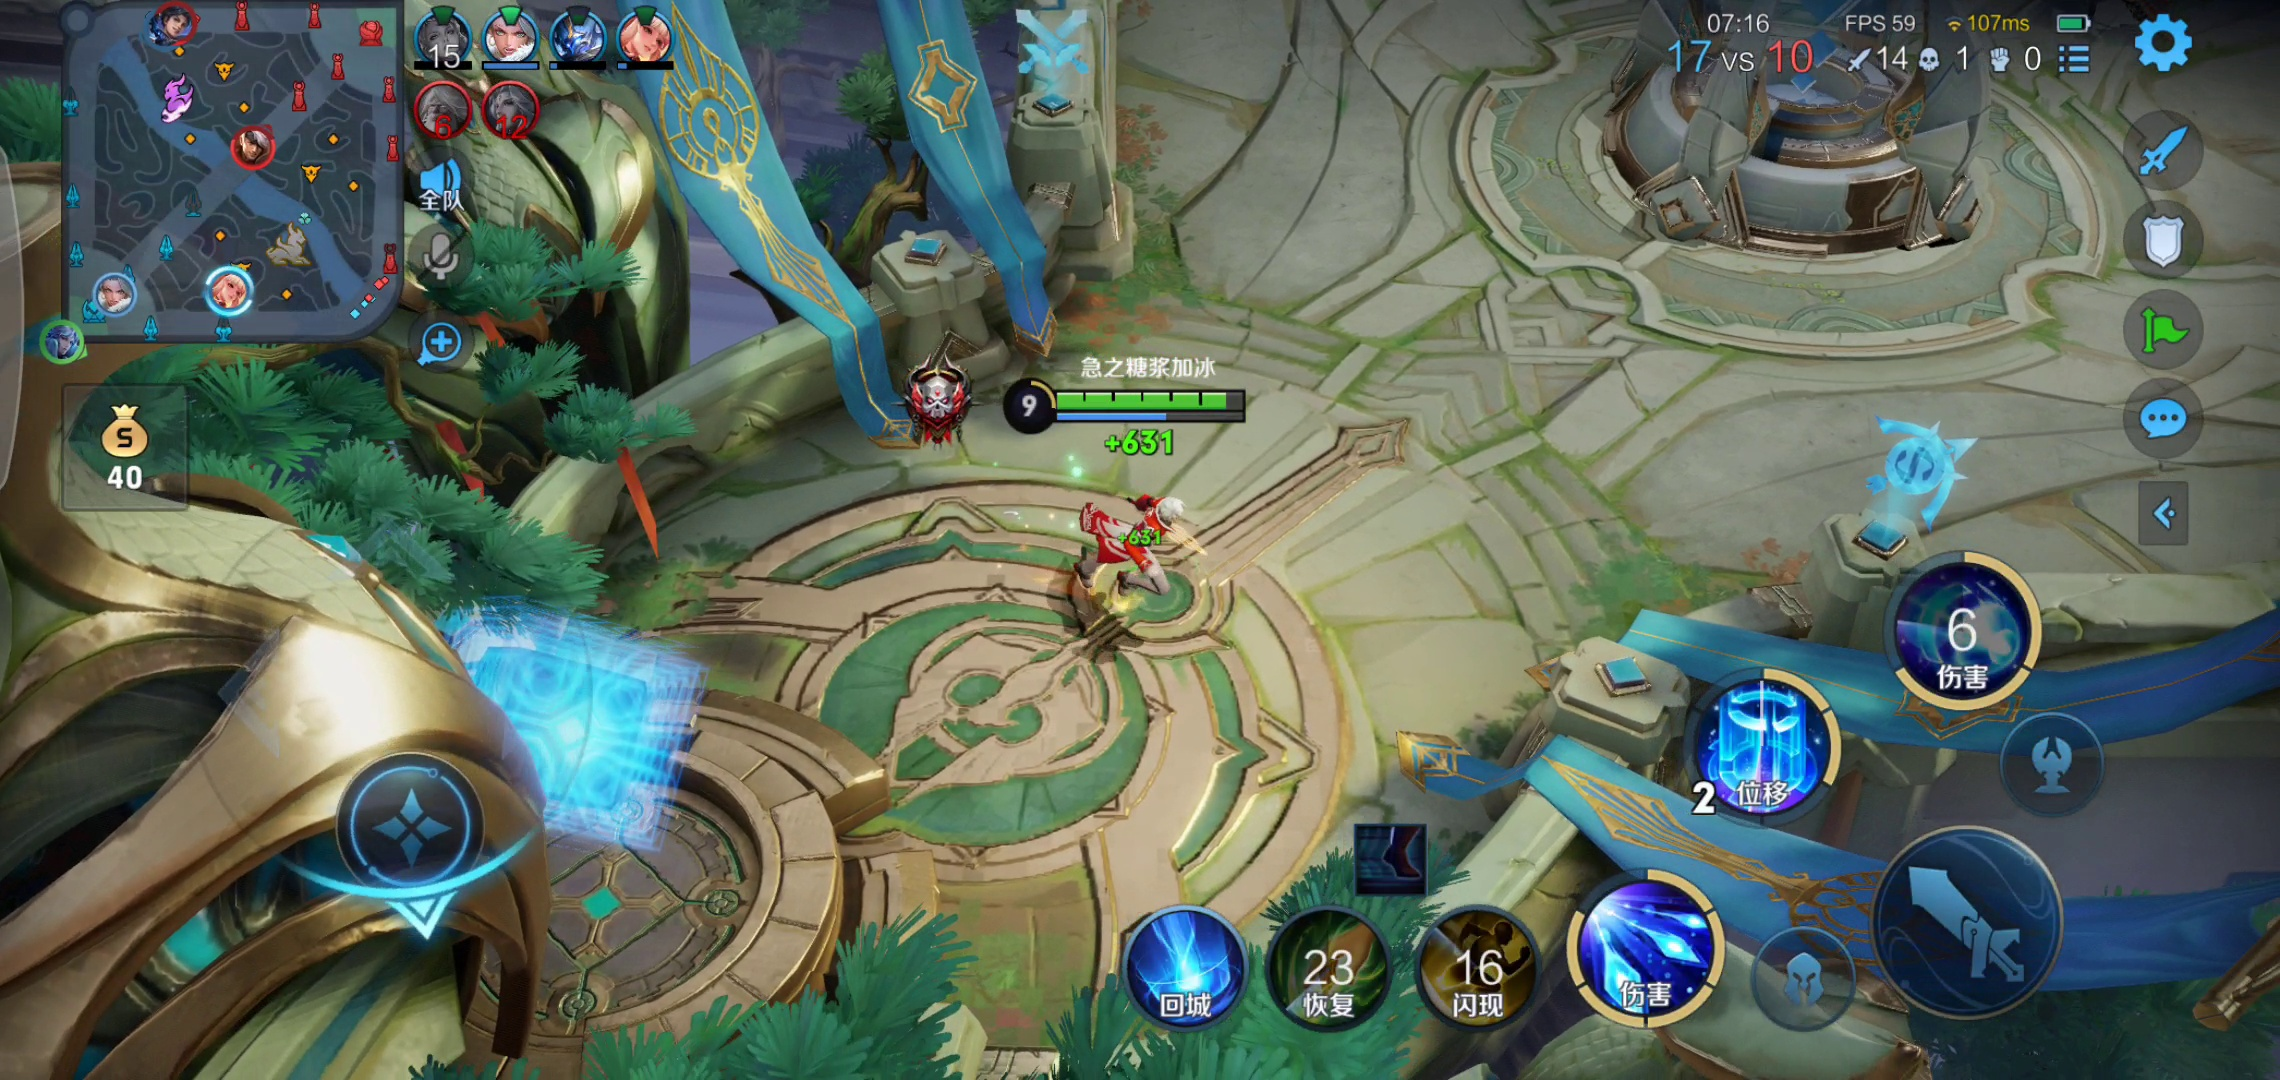crystal: (1578, 4, 2039, 259)
hero: (1048, 461, 1207, 616)
